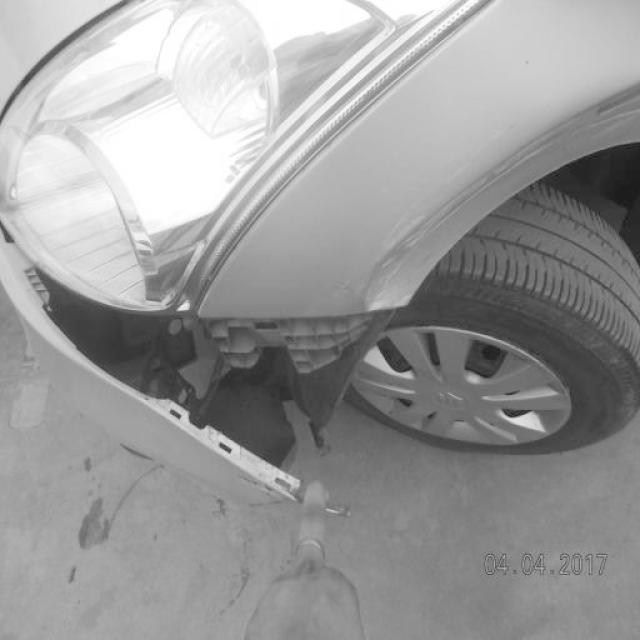car damage: (24, 267, 411, 515), (363, 79, 638, 307)
